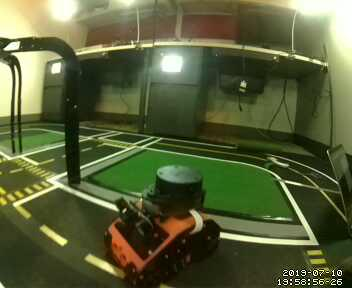pheeno: (102, 161, 223, 288)
